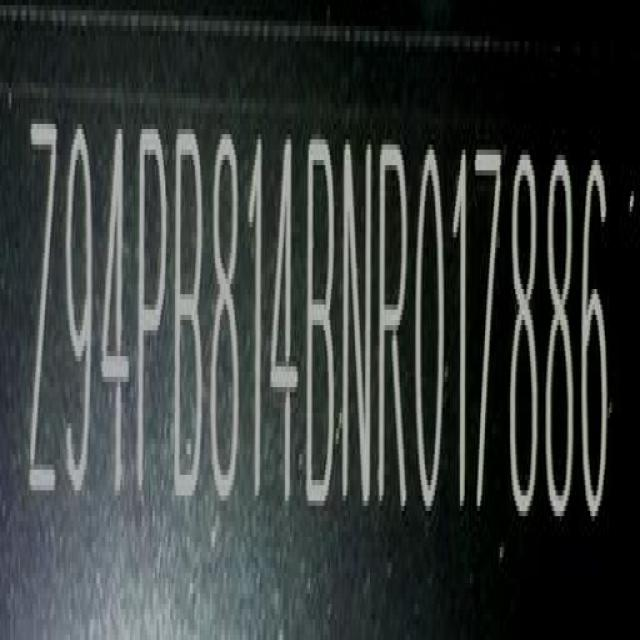0: (414, 142, 448, 518)
1: (450, 144, 472, 519), (250, 132, 268, 514)
4: (99, 117, 134, 507), (270, 131, 301, 514)
6: (583, 161, 615, 523)
7: (473, 139, 502, 522)
8: (210, 129, 244, 507), (510, 146, 541, 522), (546, 153, 576, 524)
9: (63, 117, 95, 509)
B: (306, 132, 341, 515), (174, 123, 207, 510)
N: (343, 133, 378, 516)
P: (133, 119, 168, 512)
R: (380, 140, 413, 518)
Z: (24, 105, 61, 514)
